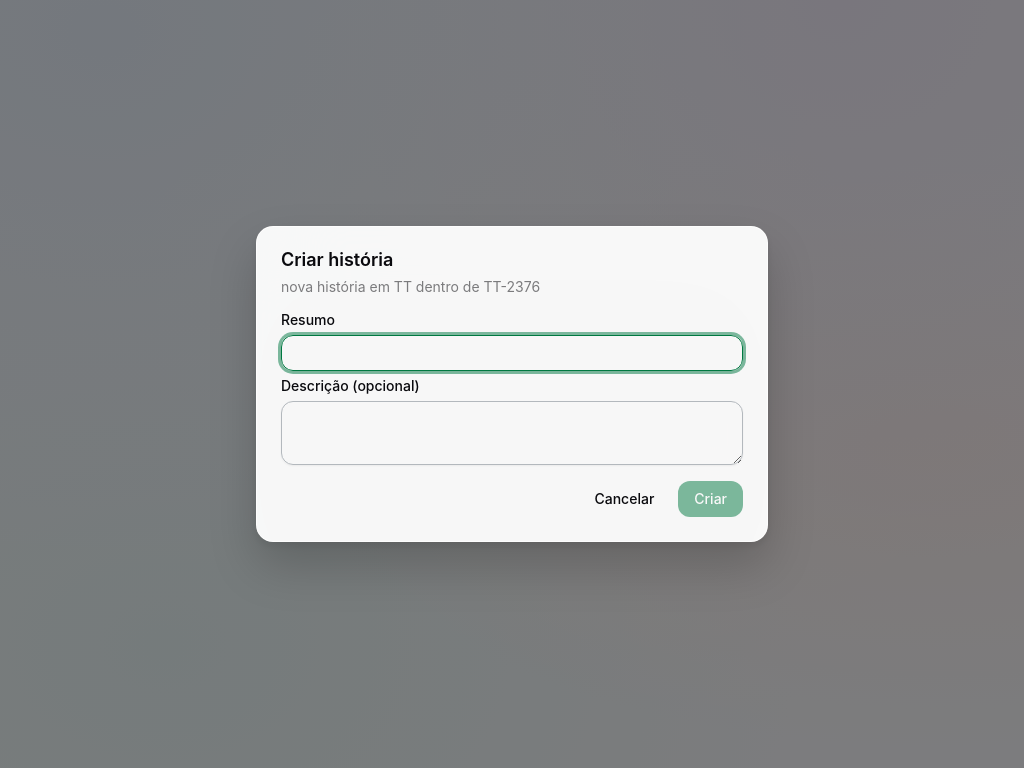
Scenario: create story dialog › shows Jira's refusal near the form
In the field labelled "Resumo": (512, 353) [281,335,743,371], type "Nova"
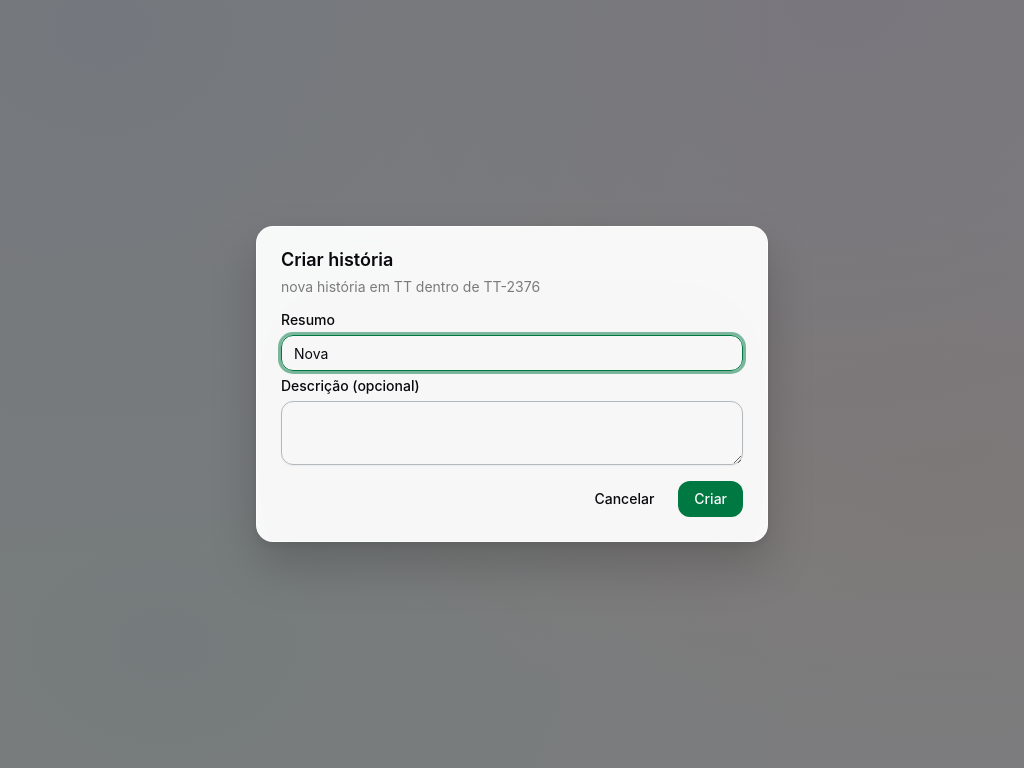
Click the button "Criar": click(711, 499) [678,481,743,517]
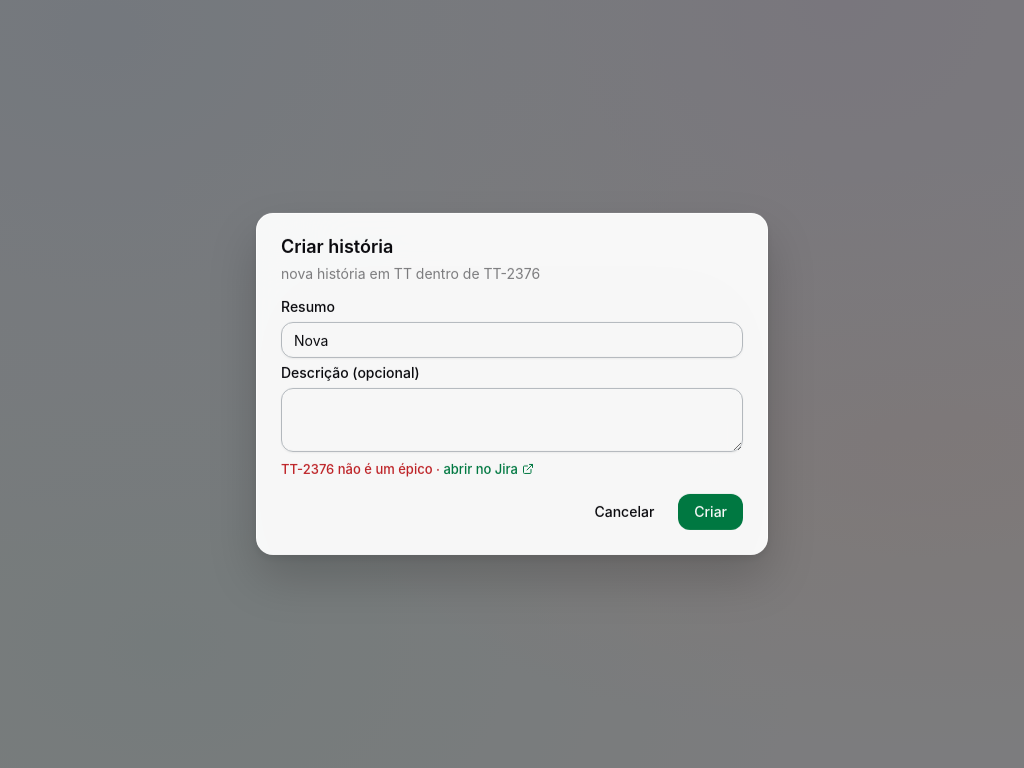
Result: the message shows "TT-2376 não é um épico" at [281,461,432,477]
